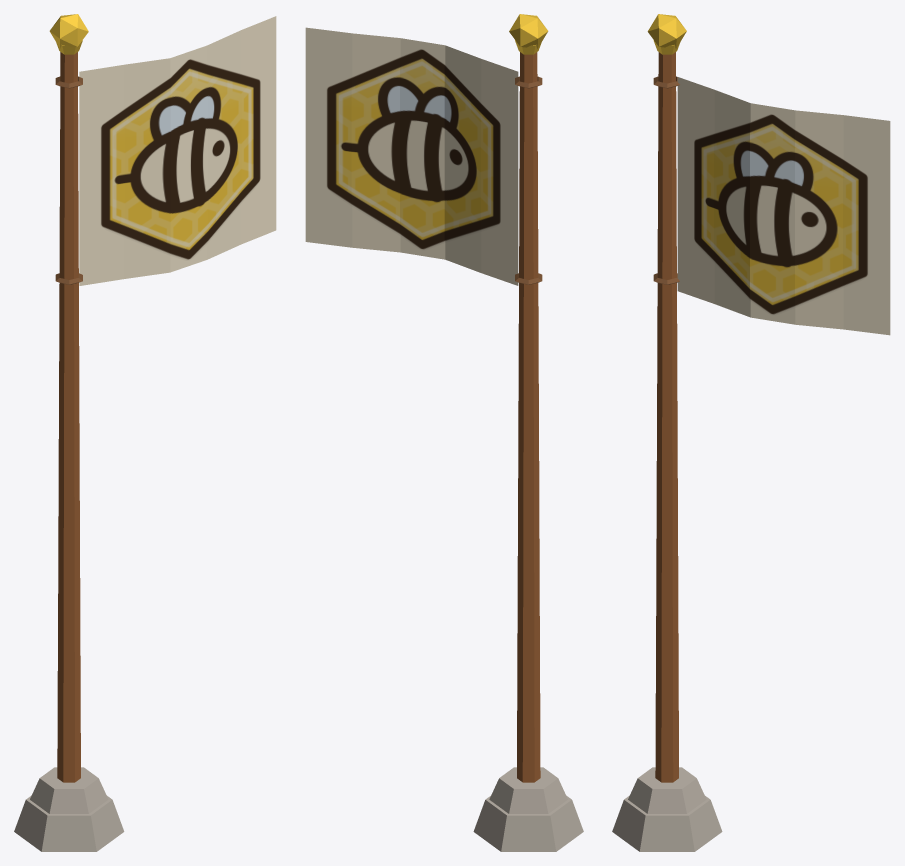
File: colony-flag.glb
The picture shows the model from 3 angles, left to right: view 1: azimuth 30°, elevation 25°; view 2: azimuth 150°, elevation 25°; view 3: azimuth 330°, elevation 25°; orthographic projection.
Parts seen in each view (by area): view 1: banner, colony-flag; view 2: banner, colony-flag; view 3: banner, colony-flag.
Part boxes in pixels (x1,y1,x2,y2): banner: (79, 16, 276, 285); colony-flag: (14, 14, 124, 851); banner: (305, 27, 518, 285); colony-flag: (473, 14, 583, 851); banner: (677, 77, 890, 335); colony-flag: (612, 14, 722, 851).
Size of the model in its own units: 0.7512 by 2.28 by 0.28.
6 materials, 1 textured.
